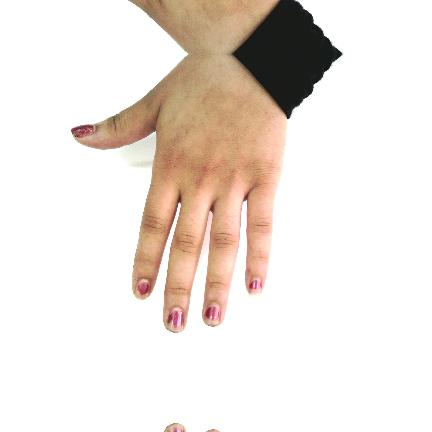Nail: (203, 302, 221, 327), (167, 308, 184, 332), (71, 124, 94, 137), (135, 279, 150, 296), (249, 278, 262, 295), (168, 424, 184, 432), (206, 429, 220, 432)
